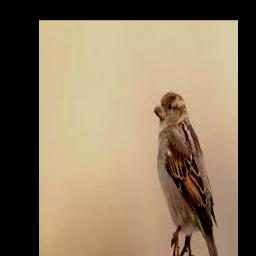Sparrow: (153, 93, 228, 256)
